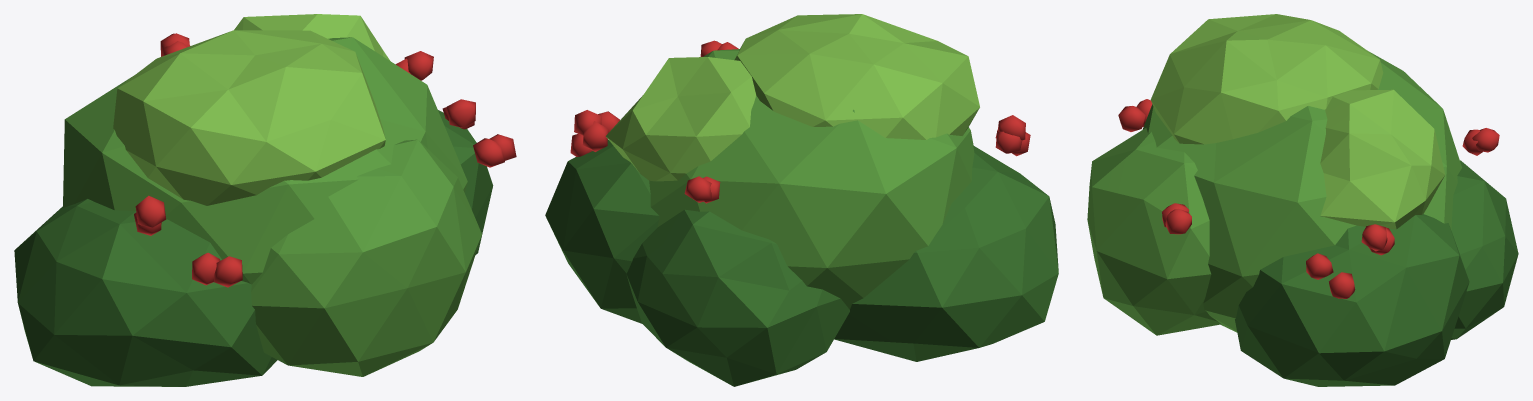
File: bush-round.glb
3 renders of one model, left to right at view 1: azimuth 30°, elevation 25°; view 2: azimuth 150°, elevation 25°; view 3: azimuth 270°, elevation 25°, orthographic. The views are drawn at different scales.
Visible parts, largest first — view 1: BushRound_Leaves, BushRound_LeavesLight, BushRound_LeavesDark, BushRound_Berries; view 2: BushRound_LeavesDark, BushRound_LeavesLight, BushRound_Leaves, BushRound_Berries; view 3: BushRound_Leaves, BushRound_LeavesDark, BushRound_LeavesLight, BushRound_Berries.
Boxes of the visible parts, <box> form: BushRound_Leaves: <box>63,37,481,376</box>; BushRound_LeavesLight: <box>113,14,389,205</box>; BushRound_LeavesDark: <box>14,110,493,386</box>; BushRound_Berries: <box>134,33,516,287</box>; BushRound_LeavesDark: <box>545,140,1058,386</box>; BushRound_LeavesLight: <box>606,14,979,181</box>; BushRound_Leaves: <box>649,49,974,309</box>; BushRound_Berries: <box>570,40,1030,203</box>; BushRound_Leaves: <box>1087,45,1461,335</box>; BushRound_LeavesDark: <box>1235,160,1518,386</box>; BushRound_LeavesLight: <box>1150,14,1445,229</box>; BushRound_Berries: <box>1118,99,1499,298</box>.
Bounding box in the file's own units: 5.61 × 3.33 × 4.78.
